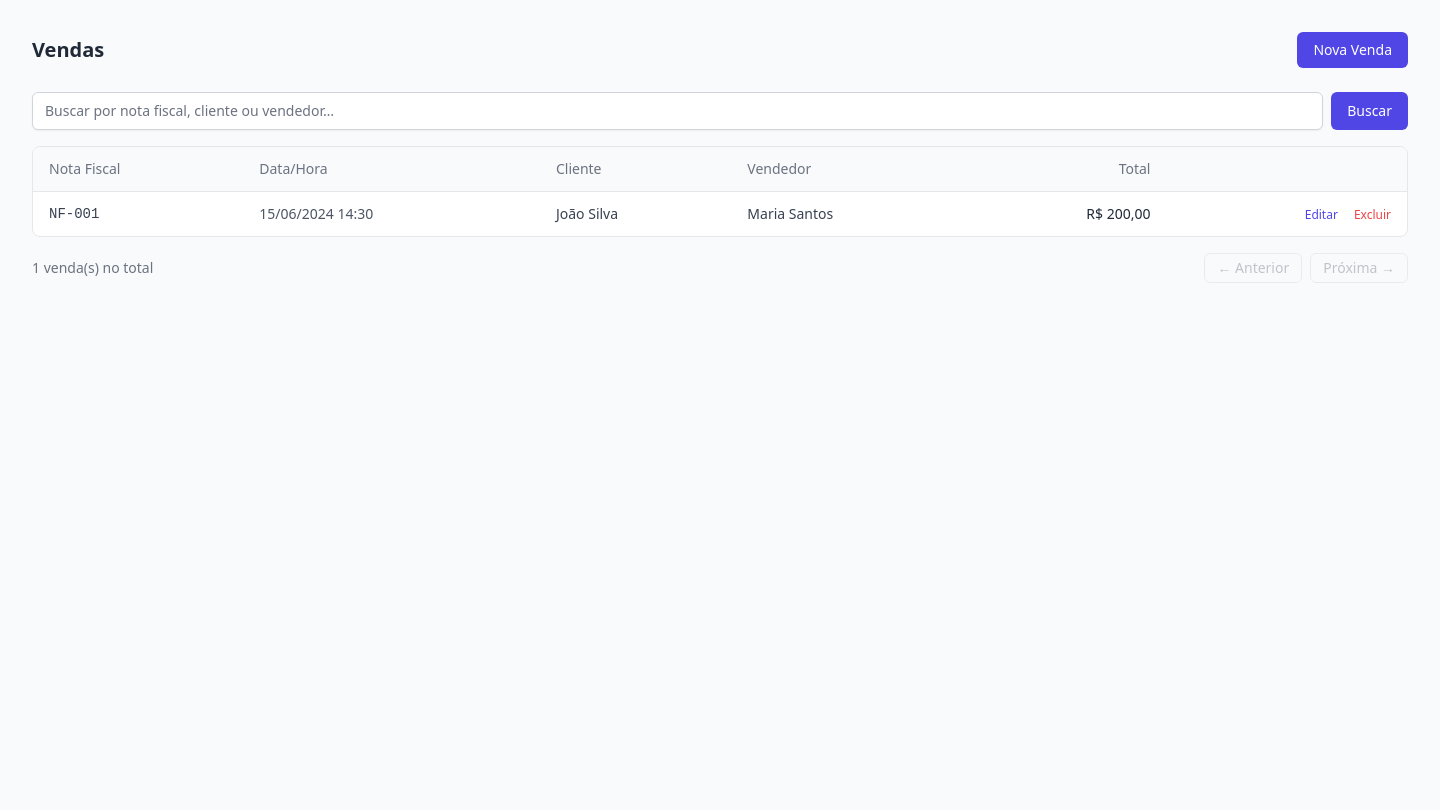
SalesPage › opens edit modal when Editar is clicked
The image size is (1440, 810).
expect the text "NF-001" is shown: met, box [33, 192, 243, 236]
Click the button "Editar" at [1321, 215], box [1305, 207, 1338, 223]
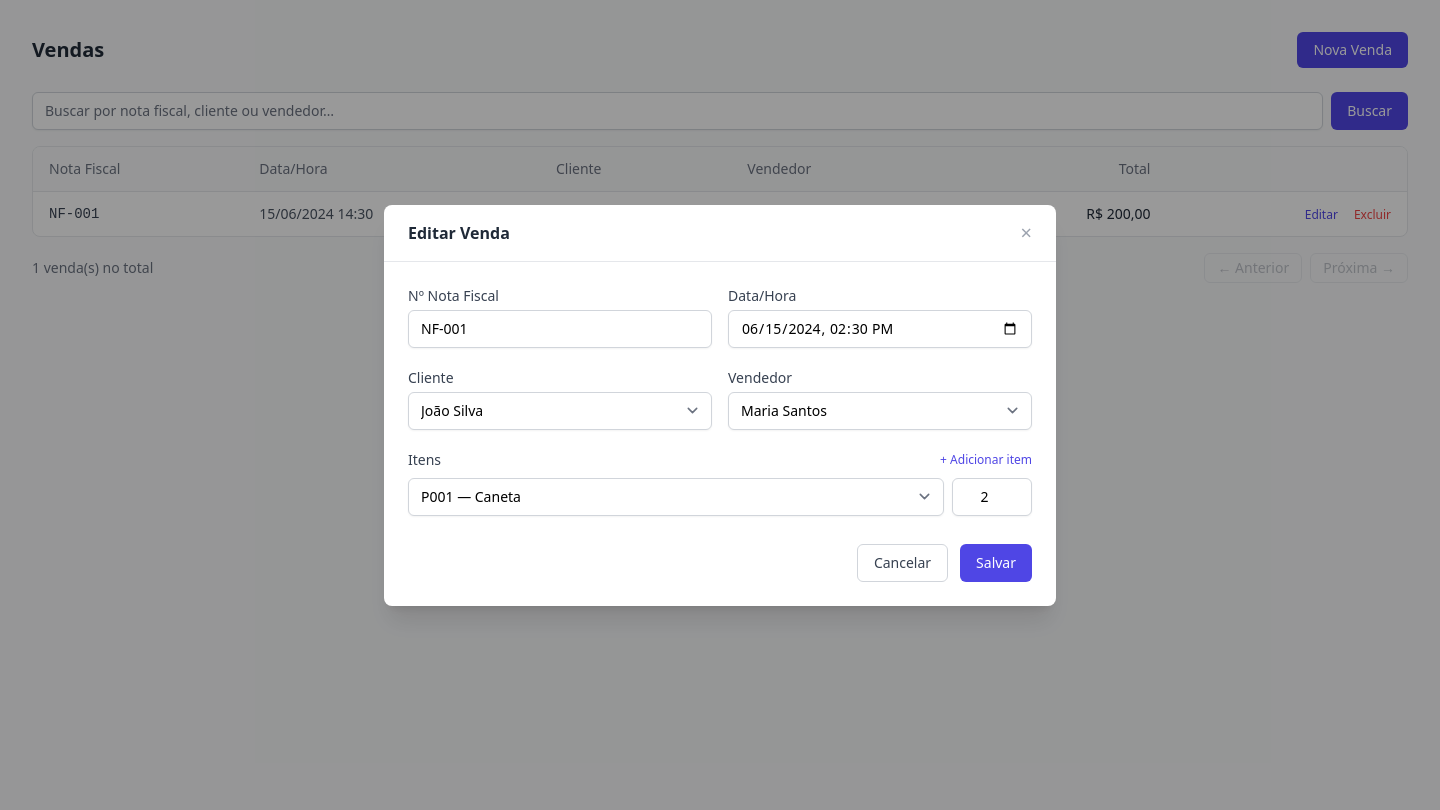
expect the heading "Editar Venda" is shown: met, box [408, 220, 510, 244]
